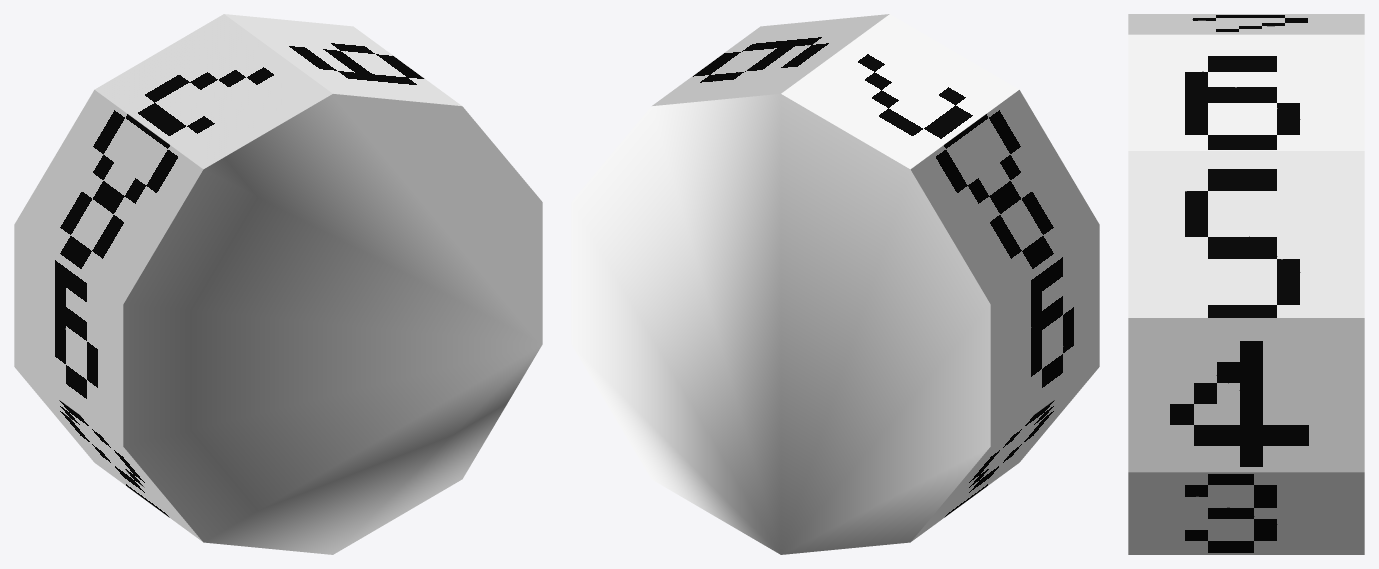
Rendered from RegisterRoller.fbx.
3 renders of one model, left to right at view 1: azimuth 30°, elevation 25°; view 2: azimuth 150°, elevation 25°; view 3: azimuth 270°, elevation 25°, orthographic. The views are drawn at different scales.
Visible parts, largest first — view 1: RegisterRoller; view 2: RegisterRoller; view 3: RegisterRoller.
Boxes of the visible parts, x1,y1,x2,y2 form: RegisterRoller: (14, 14, 542, 554); RegisterRoller: (571, 14, 1099, 554); RegisterRoller: (1128, 14, 1364, 554).
Bounding box in the file's own units: 3.99 × 4.2 × 1.8.
1 material, 1 textured.
